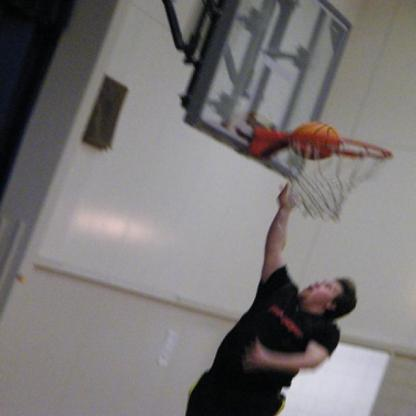basketball: (288, 121, 338, 159)
rim: (287, 132, 394, 162)
